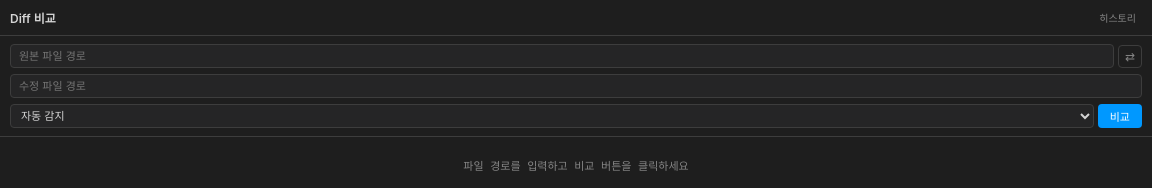
Test: DiffPanel › 원본 경로만 입력 시 비교하면 에러가 표시된다
The width and height of the screenshot is (1152, 188).
Step 1. Type "/a.ts" into the field with placeholder "원본 파일 경로" → (562, 56), box 10,44 -> 1114,68
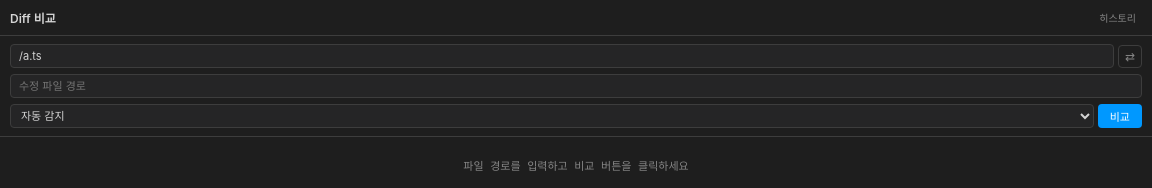
Step 2. Click the button "비교" → (1120, 116), box 1098,104 -> 1142,128
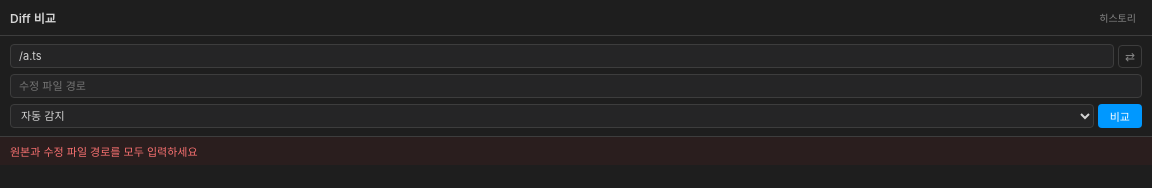
Expected: the text "원본과 수정 파일 경로를 모두 입력하세요" is shown, 0,137 -> 1151,165
